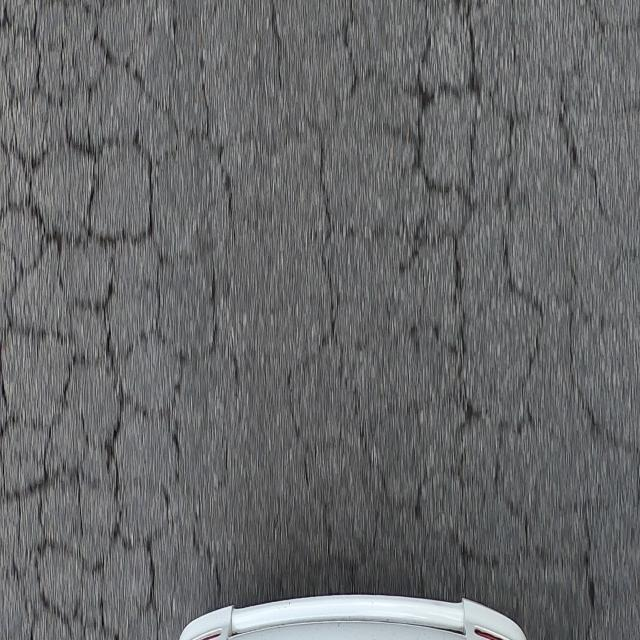Retak-Buaya: (372, 0, 639, 640), (0, 0, 241, 640)
